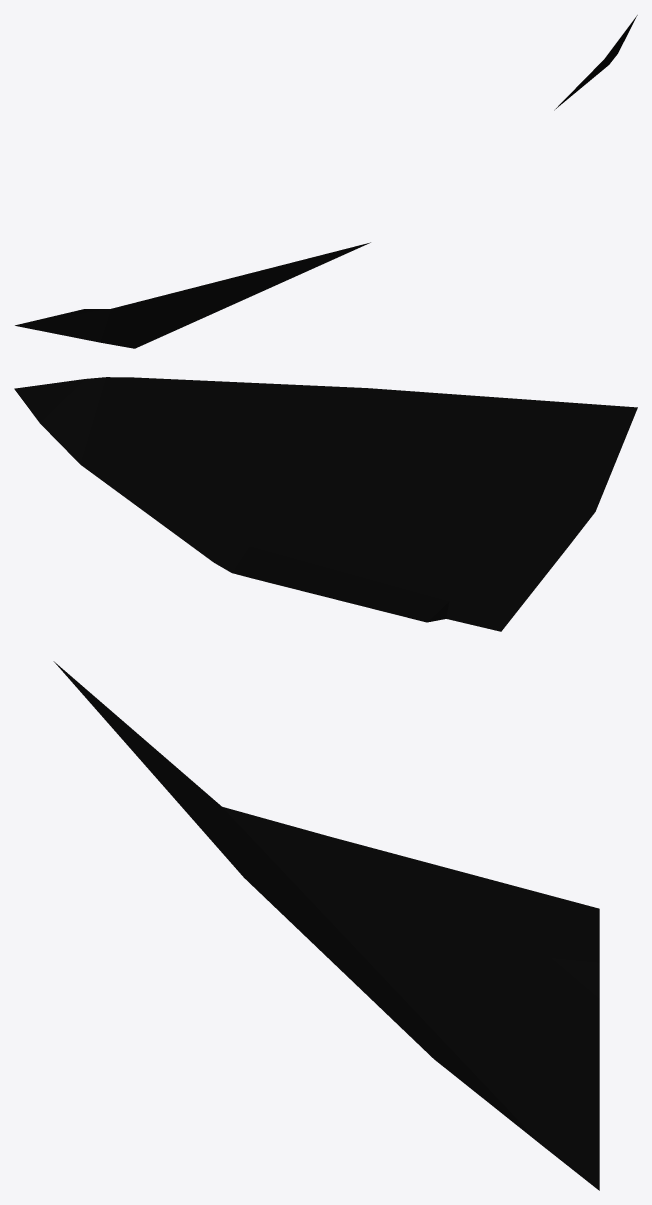
3 views of the same model, one above another, from view 1: azimuth 30°, elevation 25°; view 2: azimuth 150°, elevation 25°; view 3: azimuth 270°, elevation 25° (orthographic). The views are drawn at different scales.
Size of the model in its own units: 9.76 by 2.55 by 4.75.
1 material, 1 textured.
